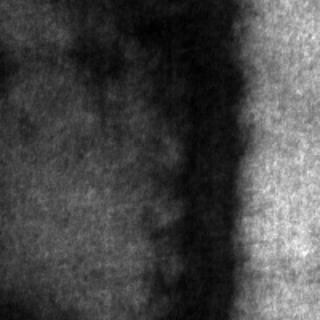patches: (143, 1, 250, 316)
